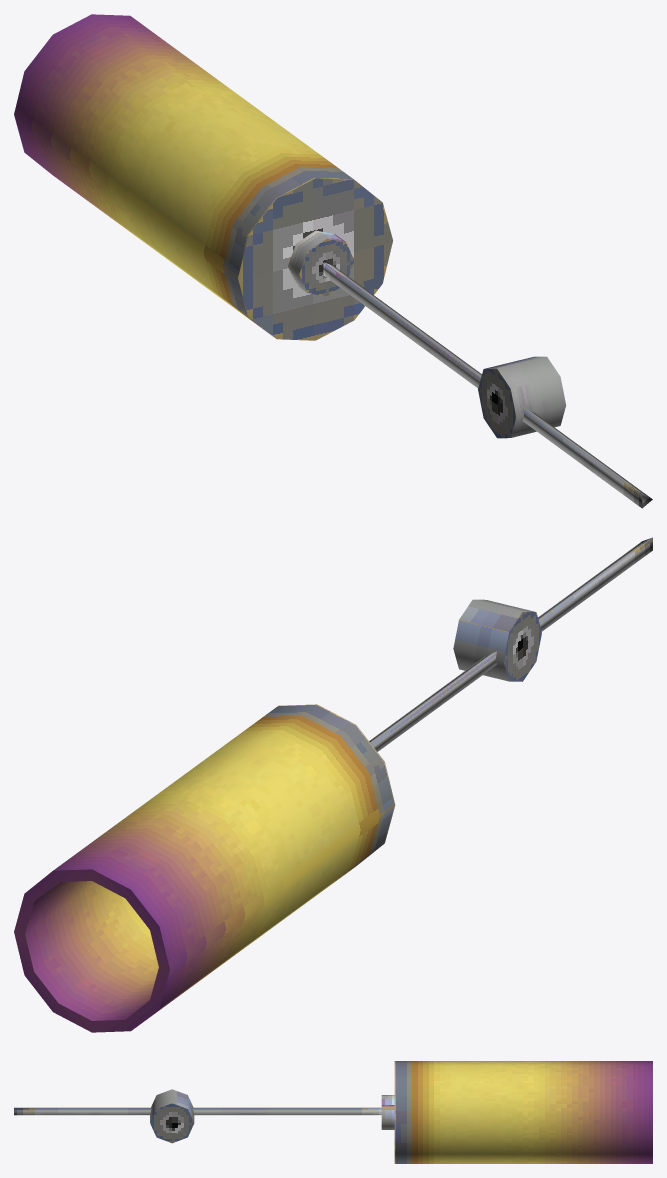
Rendered from nt_2020_light_modern_LOD0.obj.
The picture shows the model from 3 angles, top to bottom: view 1: azimuth 30°, elevation 25°; view 2: azimuth 150°, elevation 25°; view 3: azimuth 270°, elevation 25°; orthographic projection. The views are drawn at different scales.
Visible parts, largest first — view 1: mtl_nt_2020_light_modern_unlit, mtl_nt_2020_light_modern; view 2: mtl_nt_2020_light_modern_unlit, mtl_nt_2020_light_modern; view 3: mtl_nt_2020_light_modern_unlit, mtl_nt_2020_light_modern.
Boxes of the visible parts, box(x1,y1,x2,y2) form: mtl_nt_2020_light_modern_unlit: box(14, 14, 392, 340); mtl_nt_2020_light_modern: box(288, 230, 652, 508); mtl_nt_2020_light_modern_unlit: box(14, 704, 395, 1032); mtl_nt_2020_light_modern: box(369, 537, 652, 751); mtl_nt_2020_light_modern_unlit: box(394, 1061, 652, 1163); mtl_nt_2020_light_modern: box(14, 1089, 394, 1143).
Size of the model in its own units: 7.11 by 7.11 by 43.99.
